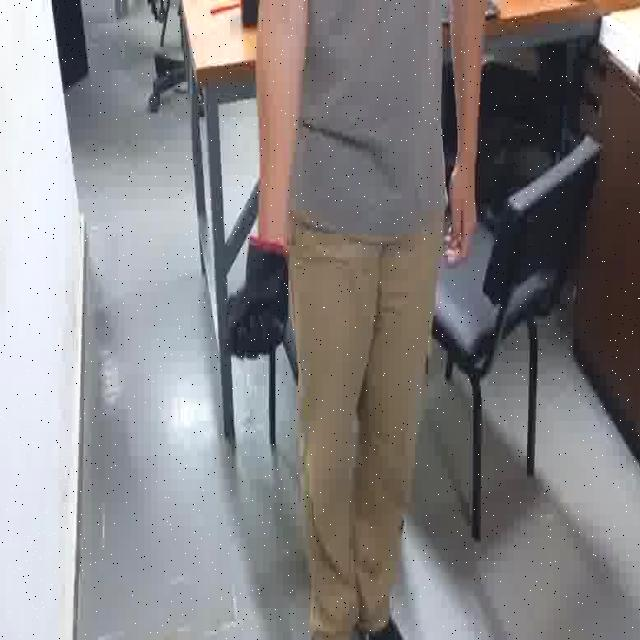Gloves: (218, 223, 296, 367)
